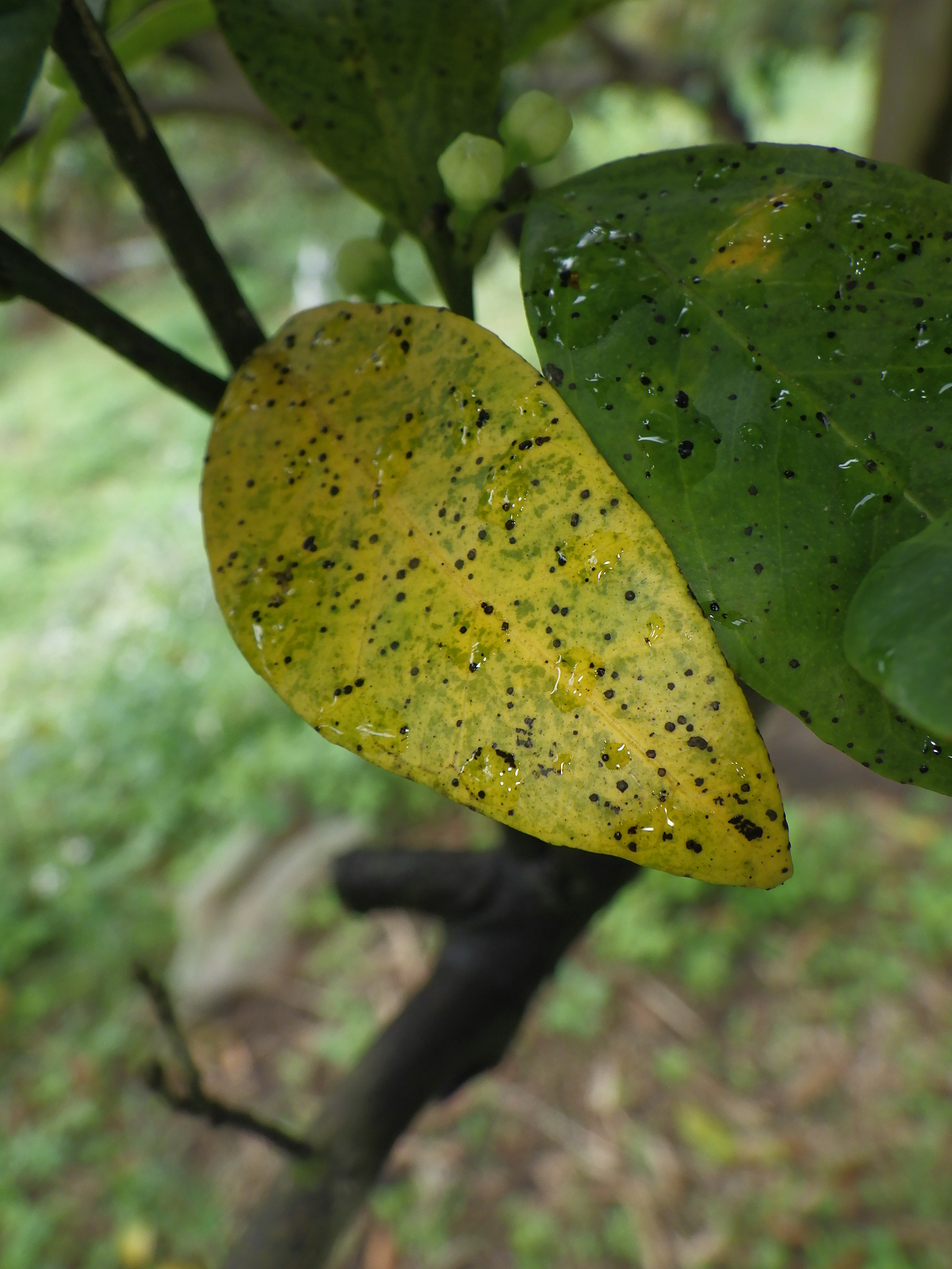Oily_Spot: (202, 304, 786, 885)
